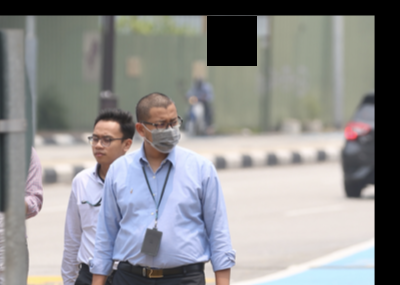with_mask: (144, 117, 180, 154)
without_mask: (90, 131, 122, 164)
